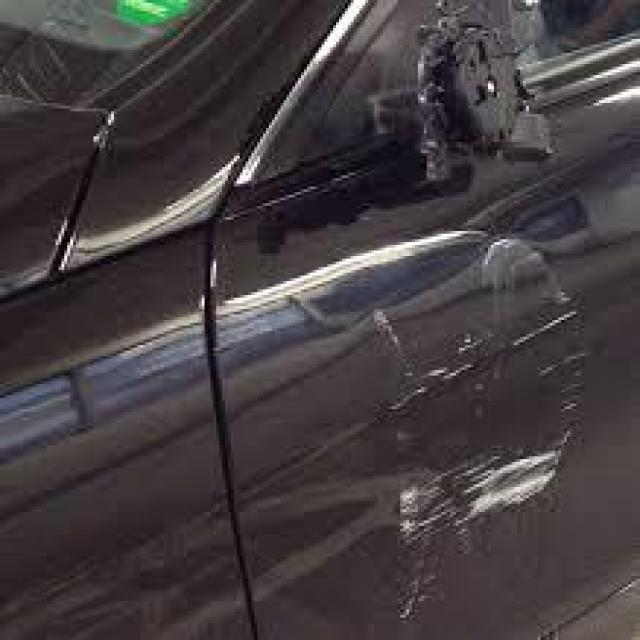damaged: (374, 240, 590, 614)
